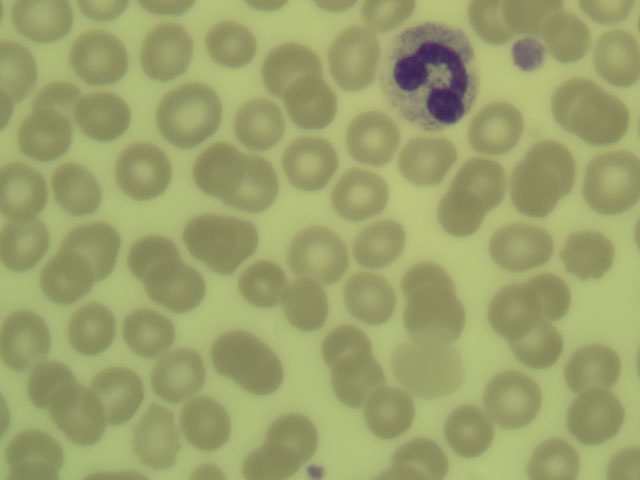Platelets: (509, 37, 547, 73), (308, 464, 327, 480)
RBC: (508, 141, 577, 216), (185, 210, 263, 273), (210, 330, 285, 390), (585, 151, 640, 213), (117, 144, 172, 199), (47, 160, 102, 215), (148, 262, 203, 317), (125, 224, 180, 279), (279, 278, 334, 333), (237, 258, 292, 313), (293, 227, 348, 282), (350, 214, 405, 269), (335, 168, 390, 223), (400, 135, 455, 190), (329, 29, 384, 84), (345, 112, 400, 167), (283, 136, 338, 191), (227, 154, 282, 209), (232, 96, 287, 151), (263, 41, 318, 96), (283, 75, 338, 130), (205, 18, 260, 73), (161, 83, 216, 138), (137, 25, 192, 80), (70, 29, 125, 84), (406, 339, 461, 394), (407, 290, 462, 345), (403, 254, 458, 309), (364, 383, 419, 438), (330, 353, 385, 408), (345, 270, 400, 325), (319, 319, 374, 374), (183, 399, 238, 454), (126, 410, 181, 465), (154, 343, 209, 398), (121, 302, 176, 357), (64, 302, 119, 357), (93, 365, 148, 420), (52, 387, 107, 442), (24, 358, 79, 413), (37, 252, 92, 307), (68, 222, 123, 277), (484, 282, 539, 337), (564, 228, 619, 283), (494, 217, 549, 272), (434, 180, 489, 235), (572, 95, 627, 150), (471, 98, 526, 153), (268, 406, 323, 461), (6, 425, 61, 479), (567, 393, 625, 444), (1, 215, 54, 270), (1, 314, 54, 369), (487, 377, 541, 427), (76, 89, 128, 140), (16, 106, 66, 159), (514, 321, 567, 368), (523, 433, 576, 480), (395, 433, 448, 480), (445, 406, 498, 453), (566, 344, 619, 391), (596, 28, 640, 83), (1, 161, 43, 217), (1, 38, 39, 98), (192, 147, 240, 194), (551, 78, 597, 127), (12, 1, 65, 43), (546, 13, 594, 59), (530, 276, 578, 320), (459, 155, 507, 196), (466, 1, 510, 41), (506, 1, 559, 33), (239, 448, 290, 480), (361, 1, 412, 26), (76, 1, 128, 20), (611, 448, 640, 480)
WBC: (383, 31, 485, 127)
